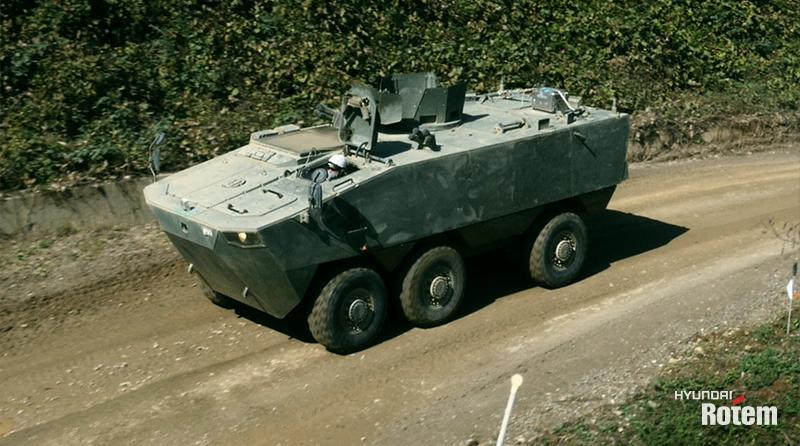MIL_IFV: (144, 64, 637, 357)
